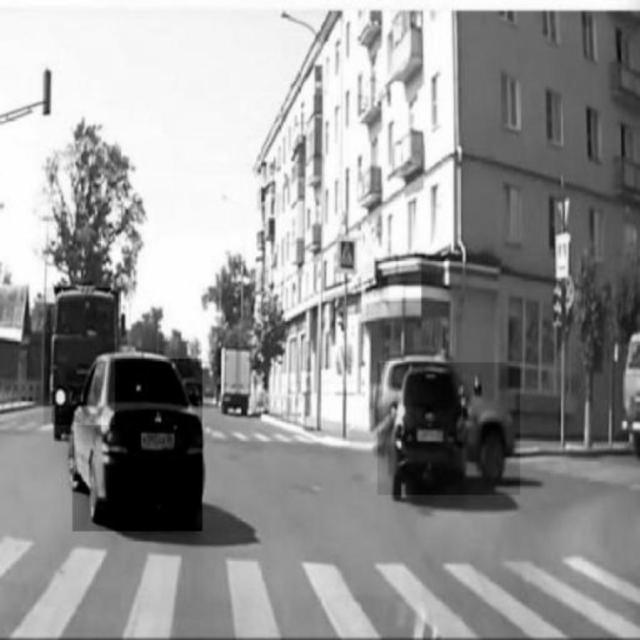accident: (378, 362, 520, 496)
vehicle: (72, 359, 202, 531), (44, 288, 115, 425), (216, 346, 260, 413)
